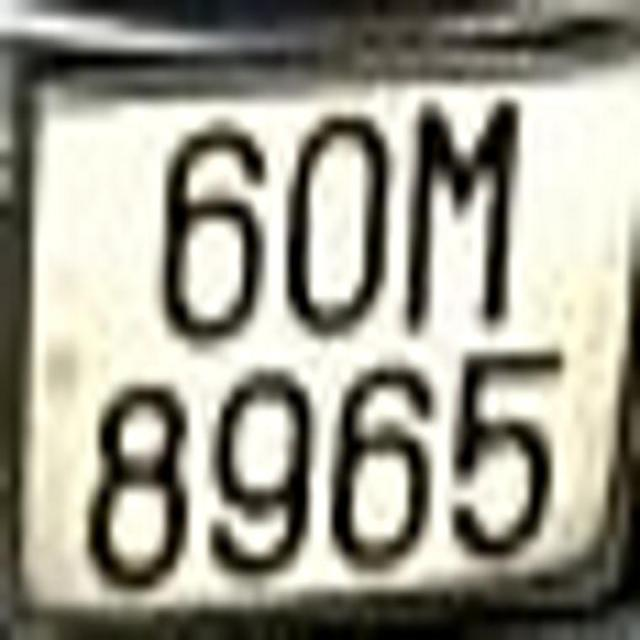0: (289, 112, 387, 334)
5: (452, 352, 568, 555)
6: (163, 120, 264, 338), (332, 367, 430, 562)
8: (90, 385, 184, 585)
9: (213, 373, 309, 578)
M: (412, 100, 519, 326)
